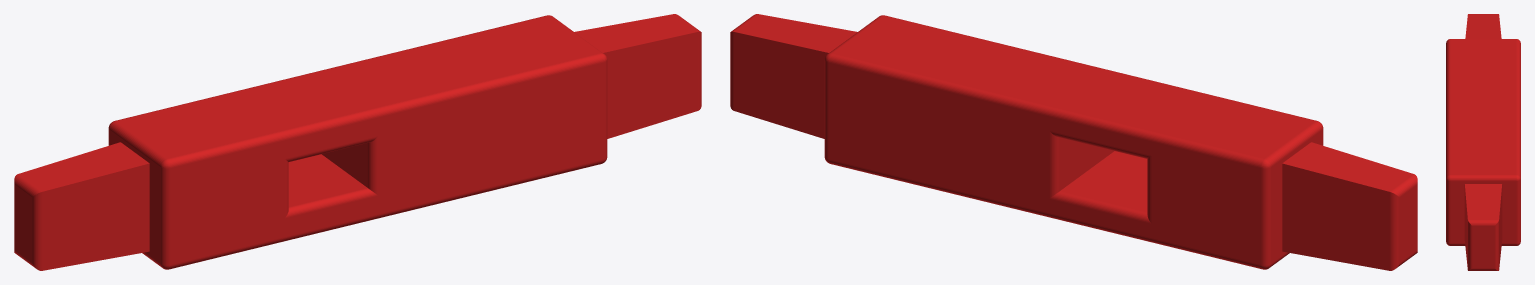
Rendered from fabrica_beam.obj.
3 renders of one model, left to right at view 1: azimuth 30°, elevation 25°; view 2: azimuth 150°, elevation 25°; view 3: azimuth 270°, elevation 25°, orthographic. The views are drawn at different scales.
Bounding box in the file's own units: 0.1524 × 0.024 × 0.023.
Materials: 1 (1 with a texture image).
